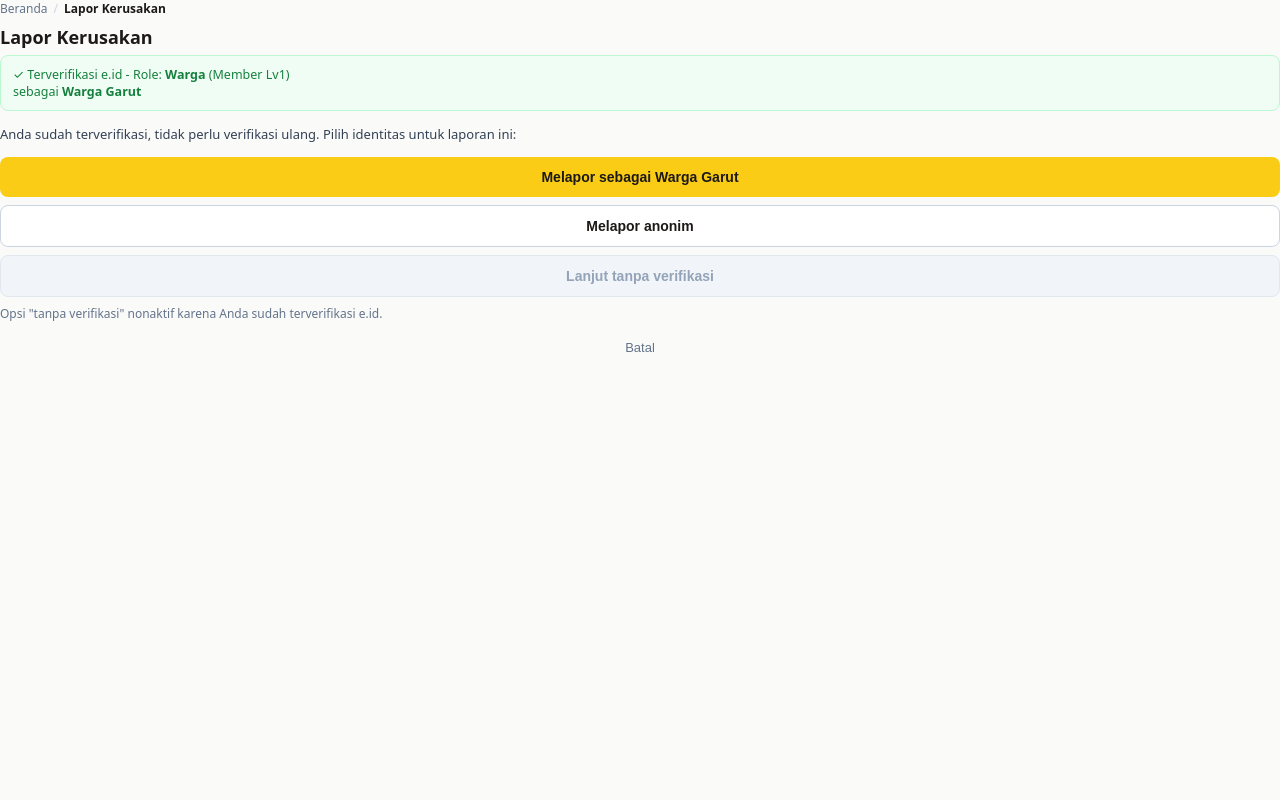
Test: ReportForm › sudah terverifikasi e.id: tidak perlu verifikasi ulang - opsi nama/anonim, "tanpa verifikasi" nonaktif
The width and height of the screenshot is (1280, 800).
Expected: the text "Terverifikasi e.id - Role:" is shown, [13,66,165,83]
Expected: the text "Warga" is shown, [165,66,206,83]
What coordinates should you click on to do the following:
click the button "Melapor anonim"
I would click on:
 (640, 226)
Its box is [0,204,1279,246].
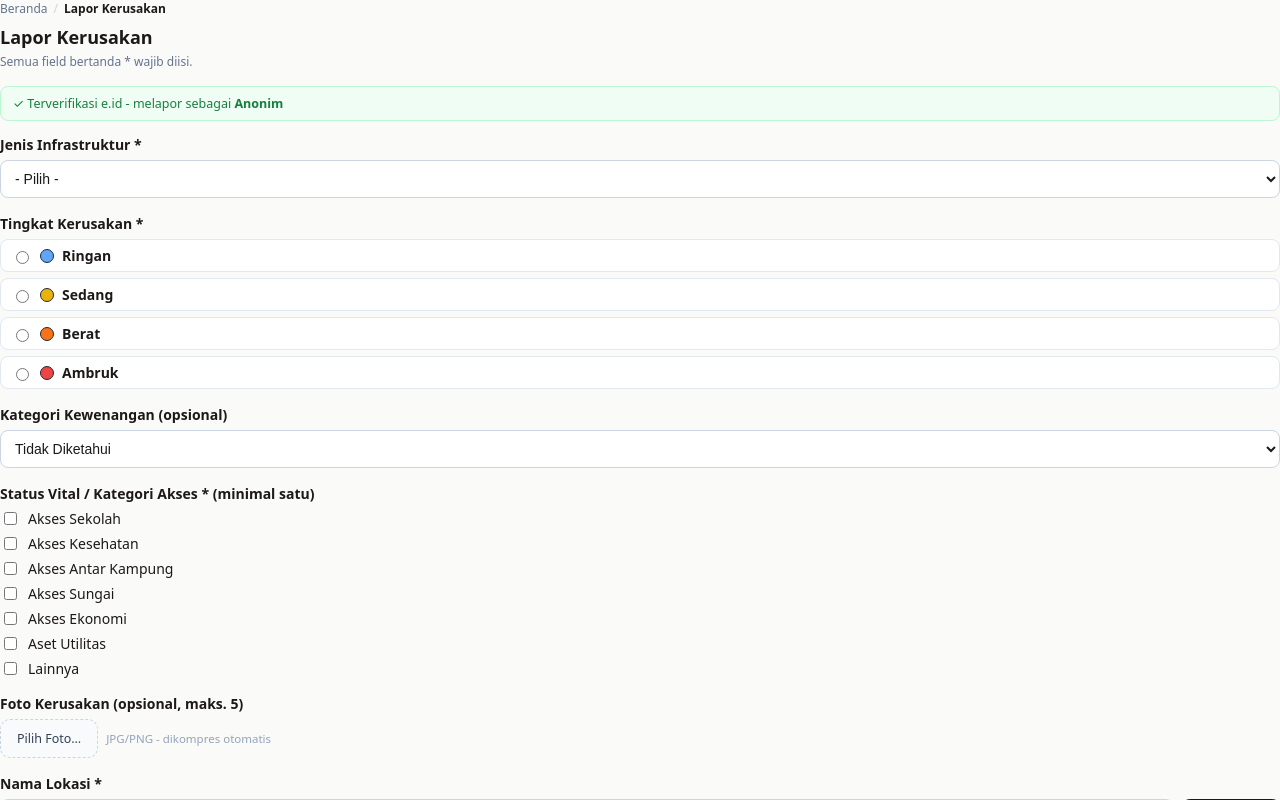
Expected: the text "Anonim" is shown, [234,95,283,112]
Expected: the text "✓ Terverifikasi e.id - melapor sebagai Anonim" is shown, [0,86,1279,121]
